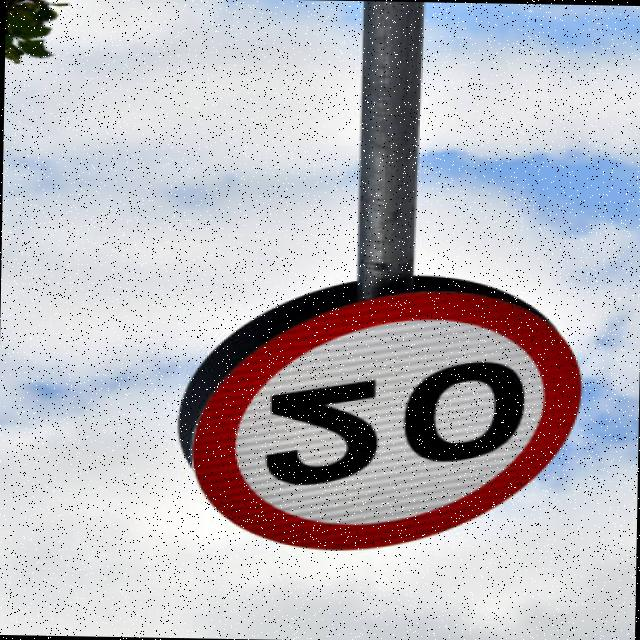speed_limit_20: (176, 274, 606, 583)
